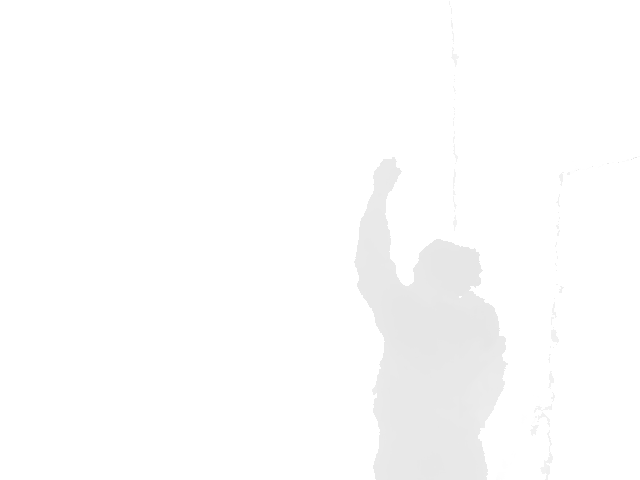hand: (372, 157, 403, 195)
head: (410, 239, 484, 297)
person: (353, 157, 508, 480)
